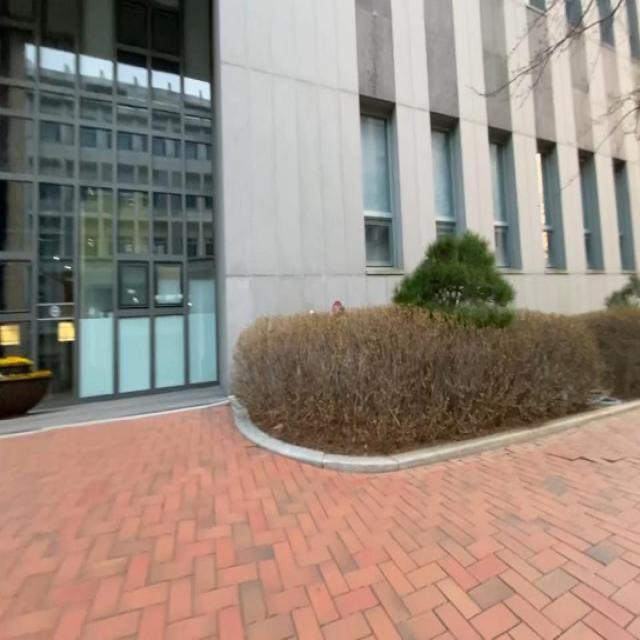sidewalk: (0, 402, 640, 640)
